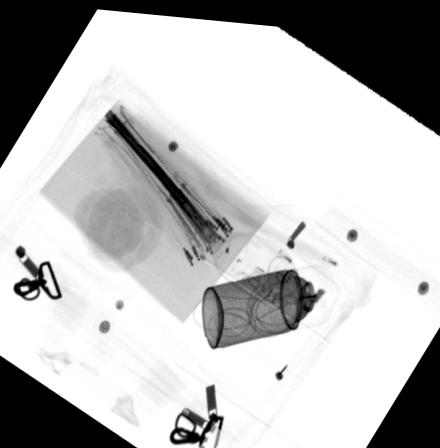Sprayer: (198, 253, 341, 344)
